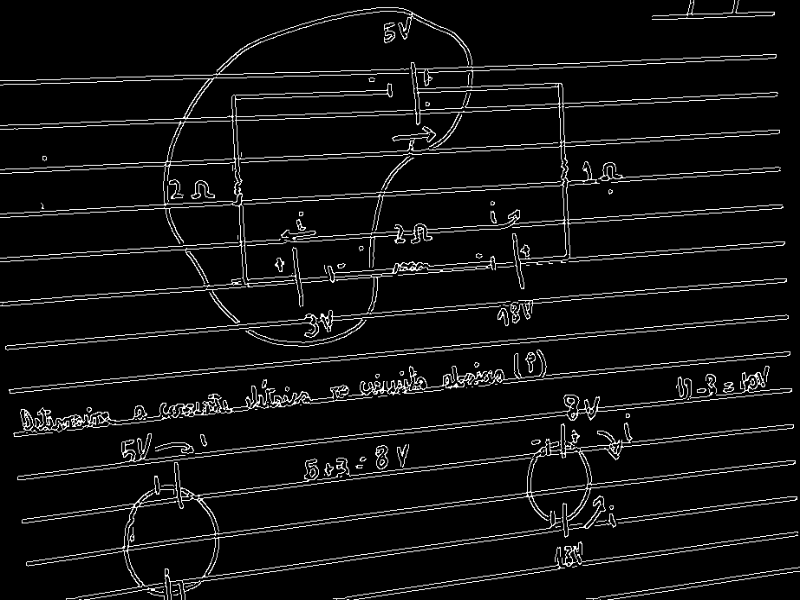-: (529, 438, 542, 446), (695, 386, 707, 394), (723, 386, 734, 394), (723, 380, 734, 388), (336, 262, 347, 269), (474, 252, 485, 259), (358, 456, 367, 464), (367, 76, 377, 83), (355, 464, 365, 469)
0: (746, 373, 757, 393)
1: (579, 157, 596, 184), (552, 544, 566, 572), (495, 306, 511, 329), (673, 374, 685, 397), (739, 370, 750, 394)
2: (166, 178, 185, 202), (391, 221, 407, 245)
3: (301, 311, 319, 338), (334, 455, 351, 479), (705, 372, 718, 399), (510, 298, 521, 326), (563, 544, 574, 570), (682, 377, 693, 400)
5: (119, 437, 137, 467), (302, 457, 321, 482), (381, 19, 398, 44)
8: (562, 393, 580, 421), (373, 442, 390, 470)
V: (134, 431, 153, 462), (581, 394, 602, 422), (394, 441, 411, 468), (318, 307, 335, 333), (397, 15, 413, 41), (571, 539, 585, 567), (756, 363, 771, 389), (521, 298, 534, 321)
p: (523, 351, 537, 375)
